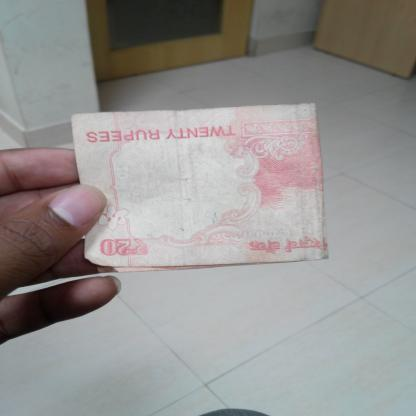Old20Back: (73, 116, 326, 262)
